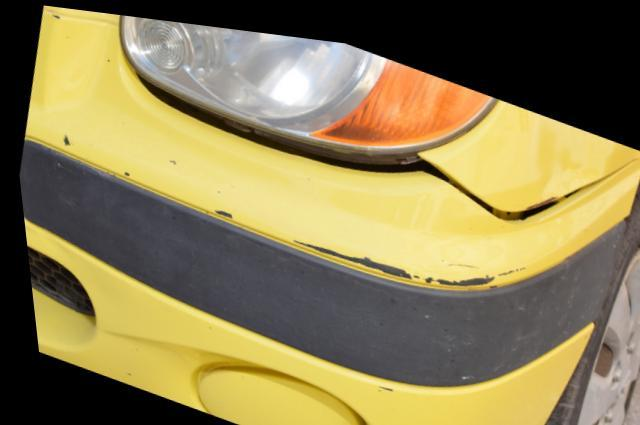scratch: (283, 231, 516, 280)
